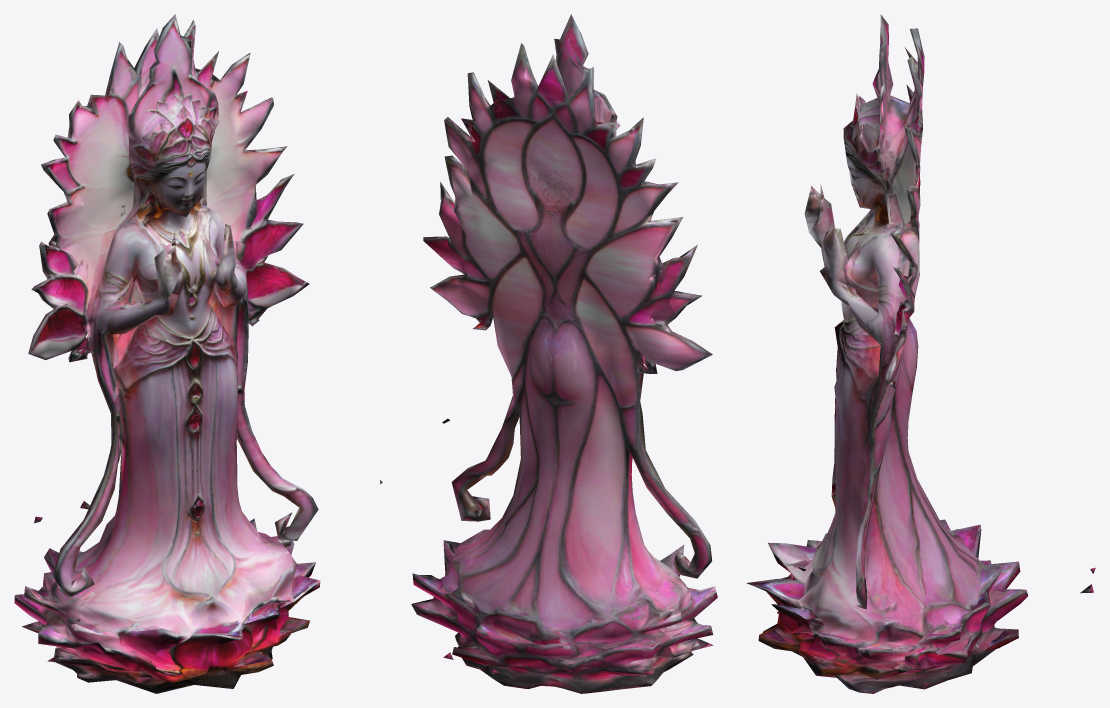
The model's file is testGoddess2PinkLotusLarge.glb.
The picture shows the model from 3 angles, left to right: view 1: azimuth 30°, elevation 25°; view 2: azimuth 150°, elevation 25°; view 3: azimuth 270°, elevation 25°; orthographic projection.
Parts seen in each view (by area): view 1: Mesh_0; view 2: Mesh_0; view 3: Mesh_0.
Part boxes in pixels (x1,y1,x2,y2): Mesh_0: (14, 14, 382, 693); Mesh_0: (411, 14, 717, 693); Mesh_0: (746, 14, 1095, 693).
Size of the model in its own units: 5.12 by 10 by 5.02.
Materials: 1 (1 with a texture image).
